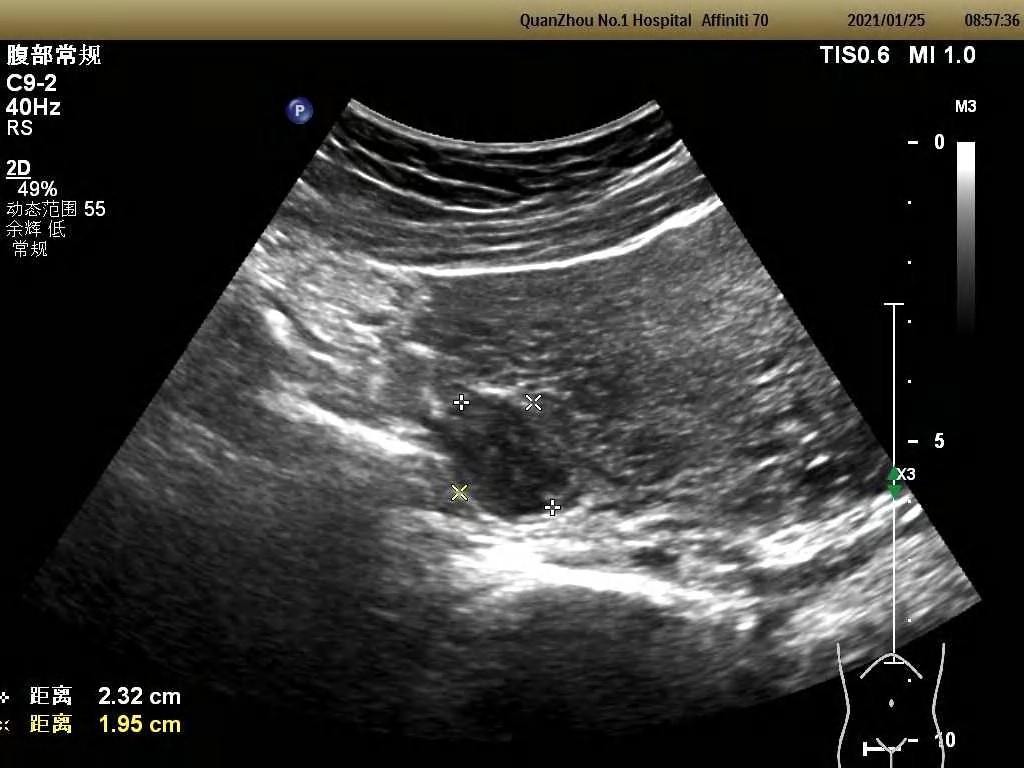肌瘤: (455, 408, 559, 512)
